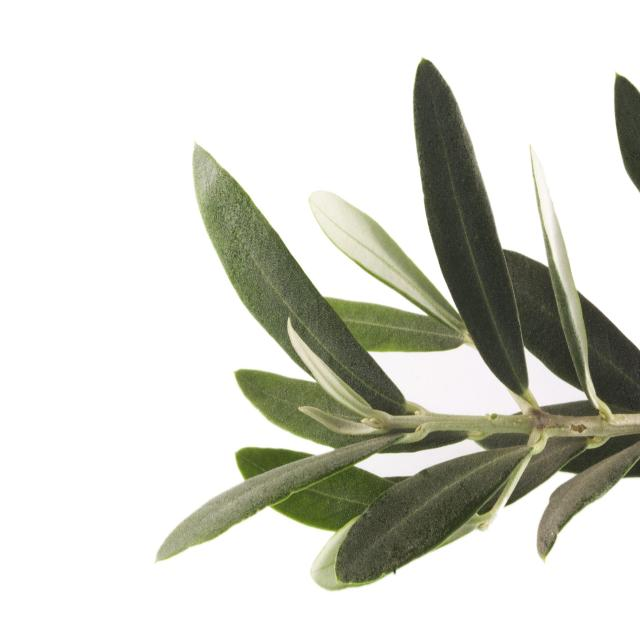Healthy: (414, 60, 534, 400), (335, 445, 528, 584)
